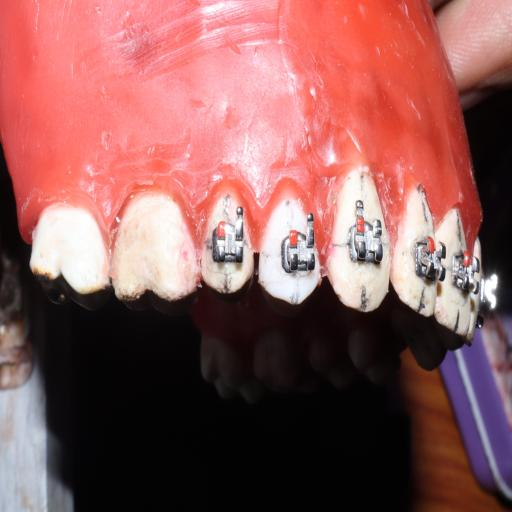correct_brace: (258, 184, 320, 305)
